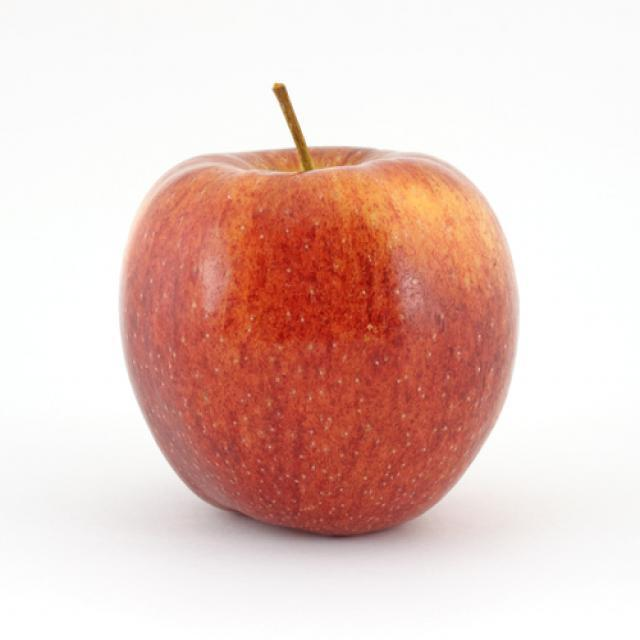Apple: (114, 79, 522, 545)
